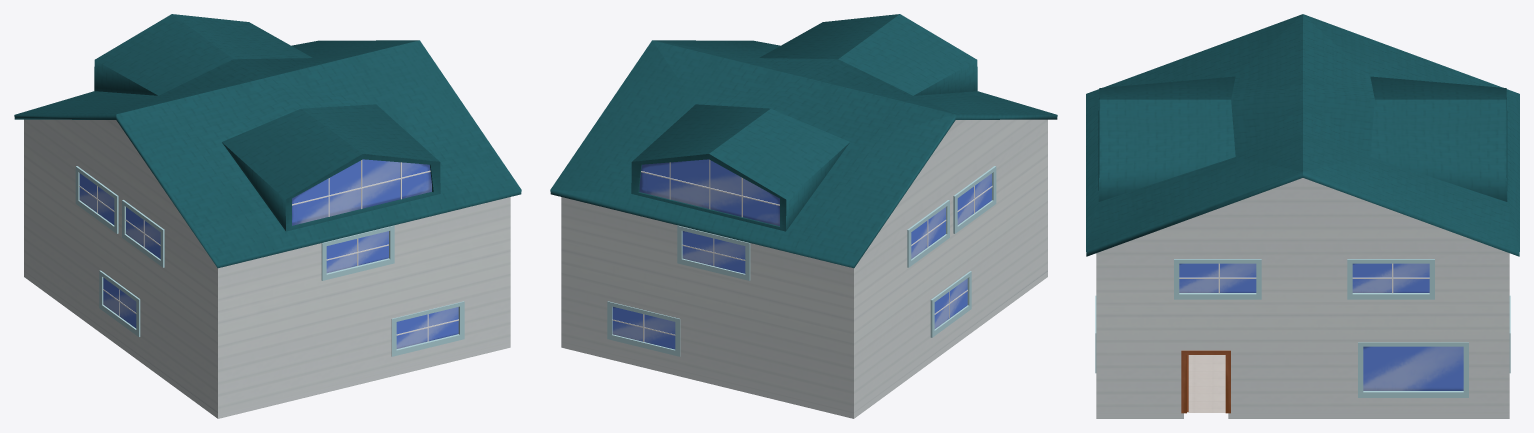
The model's file is house_006.fbx.
The picture shows the model from 3 angles, left to right: view 1: azimuth 30°, elevation 25°; view 2: azimuth 150°, elevation 25°; view 3: azimuth 270°, elevation 25°; orthographic projection. The views are drawn at different scales.
Parts seen in each view (by area): view 1: House_006, House006_Windows; view 2: House_006, House006_Windows; view 3: House_006, House006_Windows.
Part boxes in pixels (x1,y1,x2,y2): House_006: (14,14,521,418); House006_Windows: (79,159,458,348); House_006: (550,14,1057,418); House006_Windows: (612,159,991,349); House_006: (1086,14,1519,418); House006_Windows: (1179,263,1463,390).
Size of the model in its own units: 60.58 by 44.77 by 70.31.
